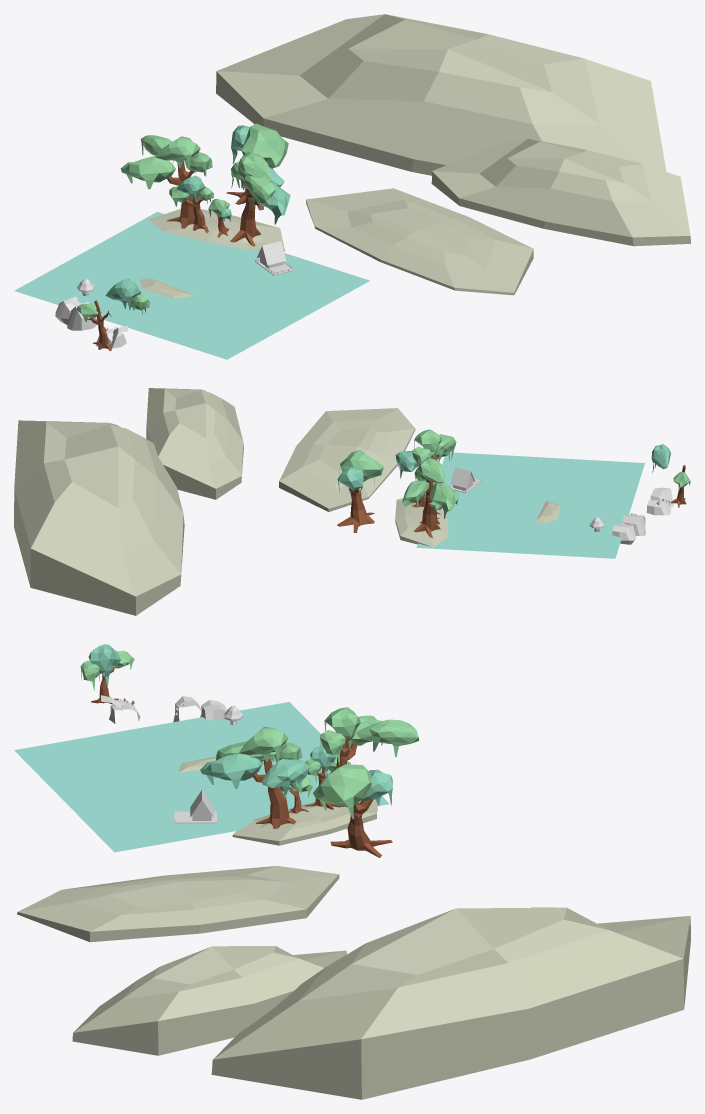
Rendered from swamp.glb.
3 renders of one model, top to bottom at view 1: azimuth 30°, elevation 25°; view 2: azimuth 150°, elevation 25°; view 3: azimuth 270°, elevation 25°, orthographic. The views are drawn at different scales.
Parts seen in each view (by area): view 1: mountain_001, water_001, land_002, land_004, land_001, leaves_010, leaves_015, leaves_014, tree_002, leaves_002, leaves_007, tree_005 (+3 smaller); view 2: mountain_001, water_001, land_002, land_004, land_001, leaves_010, tree_004, leaves_015, leaves_014, tree_005, leaves_016, leaves_009 (+6 smaller); view 3: mountain_001, water_001, land_002, land_004, land_001, leaves_010, leaves_003, leaves_016, tree_004, leaves_001, leaves_002, tree_002 (+2 smaller).
Boxes of the visible parts, x1,y1,x2,y2 form: mountain_001: (216, 14, 666, 175); water_001: (14, 212, 369, 359); land_002: (431, 138, 690, 246); land_004: (306, 188, 533, 295); land_001: (149, 209, 284, 251); leaves_010: (241, 123, 288, 168); leaves_015: (121, 156, 175, 189); leaves_014: (155, 136, 200, 169); tree_002: (230, 182, 260, 246); leaves_002: (237, 151, 272, 188); leaves_007: (243, 175, 275, 208); tree_005: (166, 161, 194, 228); mountain_001: (14, 420, 184, 615); water_001: (416, 452, 644, 558); land_002: (146, 388, 243, 499); land_004: (279, 408, 415, 511); land_001: (395, 498, 448, 547); leaves_010: (339, 450, 383, 483); tree_004: (337, 488, 374, 532); leaves_015: (429, 483, 459, 518); leaves_014: (417, 457, 444, 483); tree_005: (414, 480, 440, 538); leaves_016: (402, 480, 429, 507); leaves_009: (337, 467, 363, 492); mountain_001: (211, 907, 690, 1099); water_001: (14, 702, 389, 852); land_002: (72, 946, 346, 1055); land_004: (17, 866, 339, 942); land_001: (232, 799, 377, 845); leaves_010: (313, 764, 372, 819); leaves_003: (200, 754, 262, 788); leaves_016: (356, 719, 418, 757); tree_004: (330, 799, 392, 857); leaves_001: (262, 758, 309, 795); leaves_002: (239, 727, 287, 761); tree_002: (248, 759, 296, 828).
Size of the model in its own units: 54.41 by 9.21 by 42.21.
